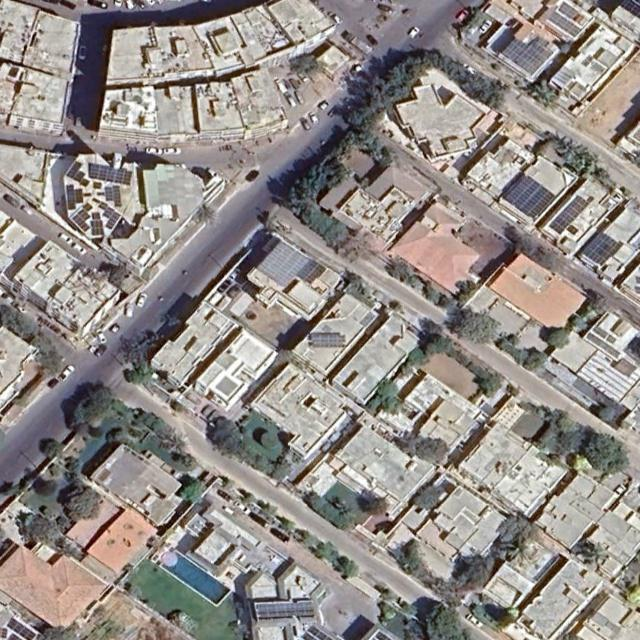solar panel: (259, 241, 327, 286), (503, 173, 555, 221), (502, 37, 554, 75), (550, 195, 594, 235), (583, 231, 621, 266), (89, 163, 133, 186), (256, 602, 314, 619), (586, 331, 621, 359), (92, 198, 122, 230), (548, 12, 582, 38), (558, 2, 589, 26), (66, 185, 92, 209), (72, 203, 93, 232), (66, 162, 89, 188), (311, 332, 345, 348), (98, 186, 121, 207), (308, 626, 336, 639), (623, 0, 639, 19), (91, 213, 104, 236), (593, 325, 609, 339), (606, 335, 617, 344), (303, 632, 317, 639), (93, 182, 102, 189)
